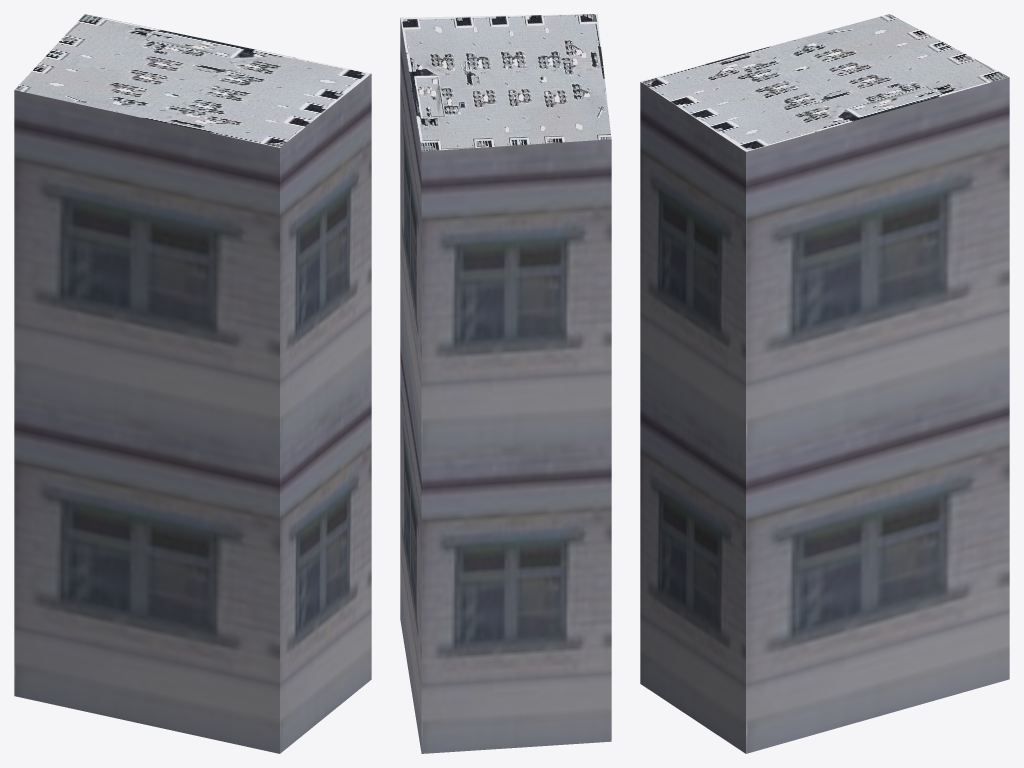
File: ResTex__2748.fbx
The picture shows the model from 3 angles, left to right: view 1: azimuth 30°, elevation 25°; view 2: azimuth 150°, elevation 25°; view 3: azimuth 270°, elevation 25°; orthographic projection.
Parts seen in each view (by area): view 1: CityEngineMaterial_1_m, CityEngineMaterial_8_m; view 2: CityEngineMaterial_1_m, CityEngineMaterial_8_m; view 3: CityEngineMaterial_1_m, CityEngineMaterial_8_m.
Part boxes in pixels (left/top/right/bottom): CityEngineMaterial_1_m: left=14, top=74, right=371, bottom=753; CityEngineMaterial_8_m: left=15, top=14, right=370, bottom=147; CityEngineMaterial_1_m: left=400, top=18, right=611, bottom=753; CityEngineMaterial_8_m: left=400, top=14, right=611, bottom=151; CityEngineMaterial_1_m: left=640, top=77, right=1009, bottom=753; CityEngineMaterial_8_m: left=640, top=14, right=1009, bottom=151.
Bounding box in the file's own units: 2.95 × 6 × 3.34.
Materials: 2 (2 with a texture image).
